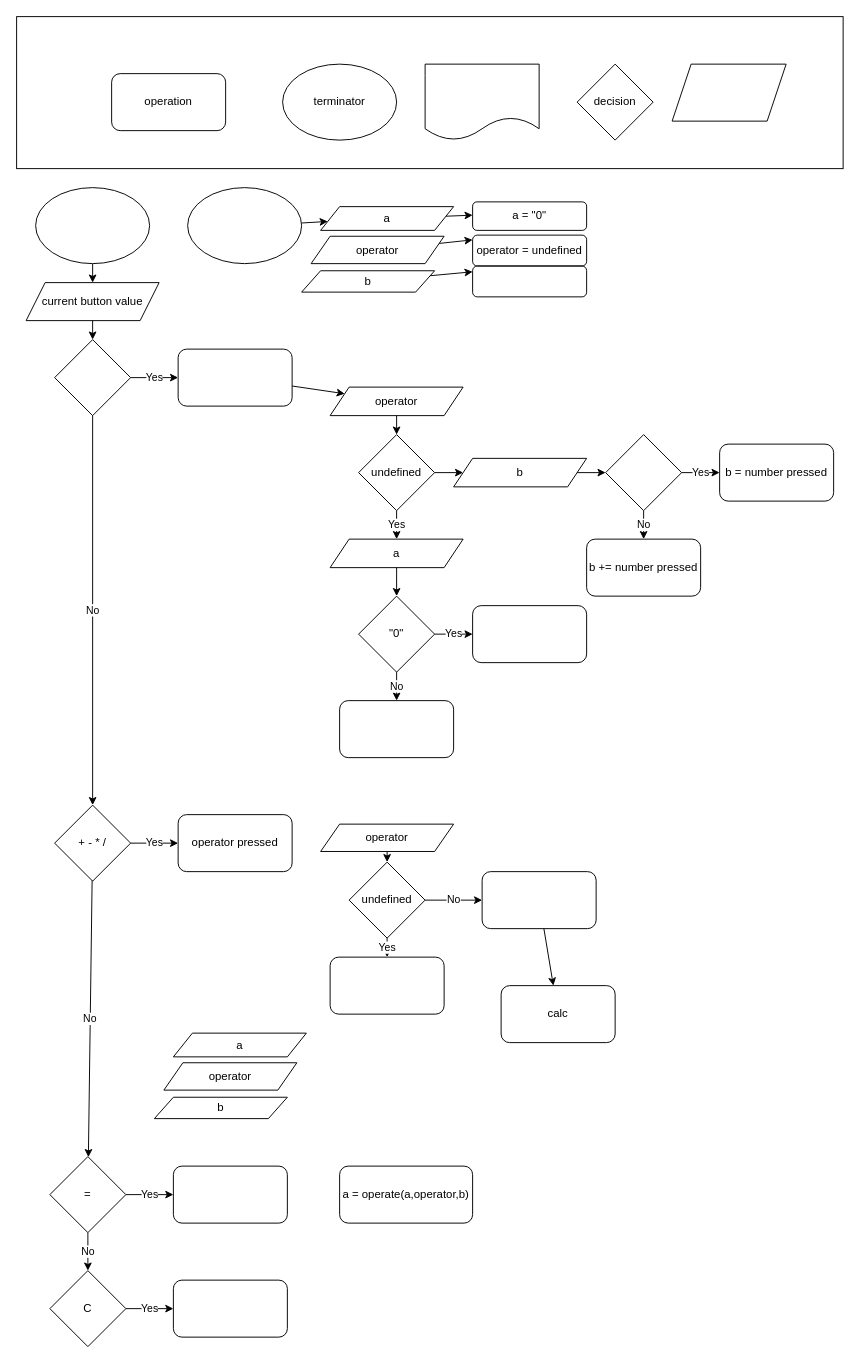
Image size: 860x1363. Some labels were removed from this diagram. The box of each missing label's shape, as (x1, y1, x2, y2) in pixels:
"0" || undefined: (605, 434, 682, 511)
0 to 9: (54, 339, 131, 416)
a += number pressed: (339, 700, 454, 758)
a = number pressed: (472, 605, 587, 663)
b = a: (481, 871, 596, 929)
b = undefined: (472, 265, 587, 297)
calculate pressed: (172, 1165, 287, 1223)
clear pressed: (172, 1279, 287, 1337)
data: (671, 63, 786, 121)
display readout: (424, 63, 539, 140)
init: (187, 187, 302, 264)
number pressed: (177, 348, 292, 406)
operator = operator pressed: (329, 956, 444, 1014)
user pressed button: (35, 187, 150, 264)
